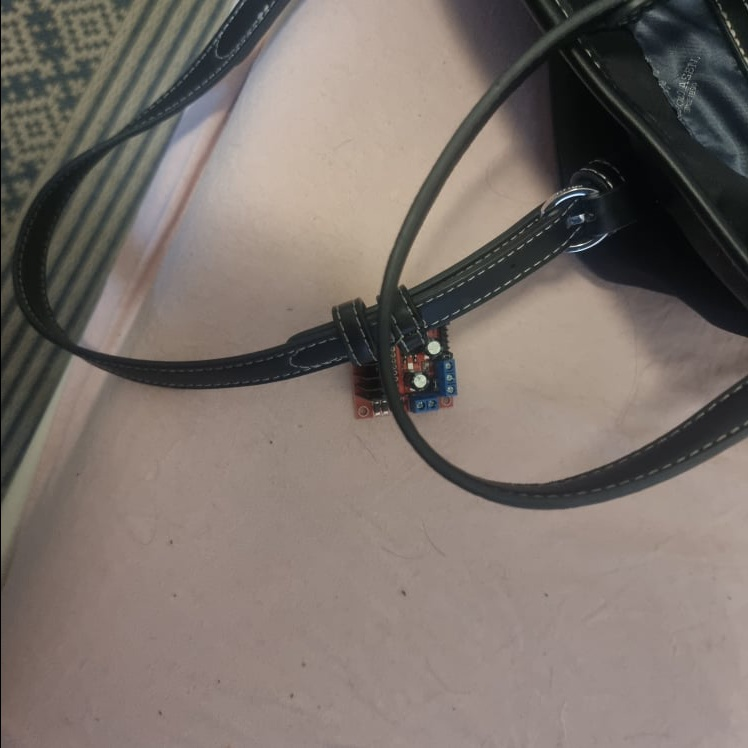MOTOR: (349, 317, 457, 419)
